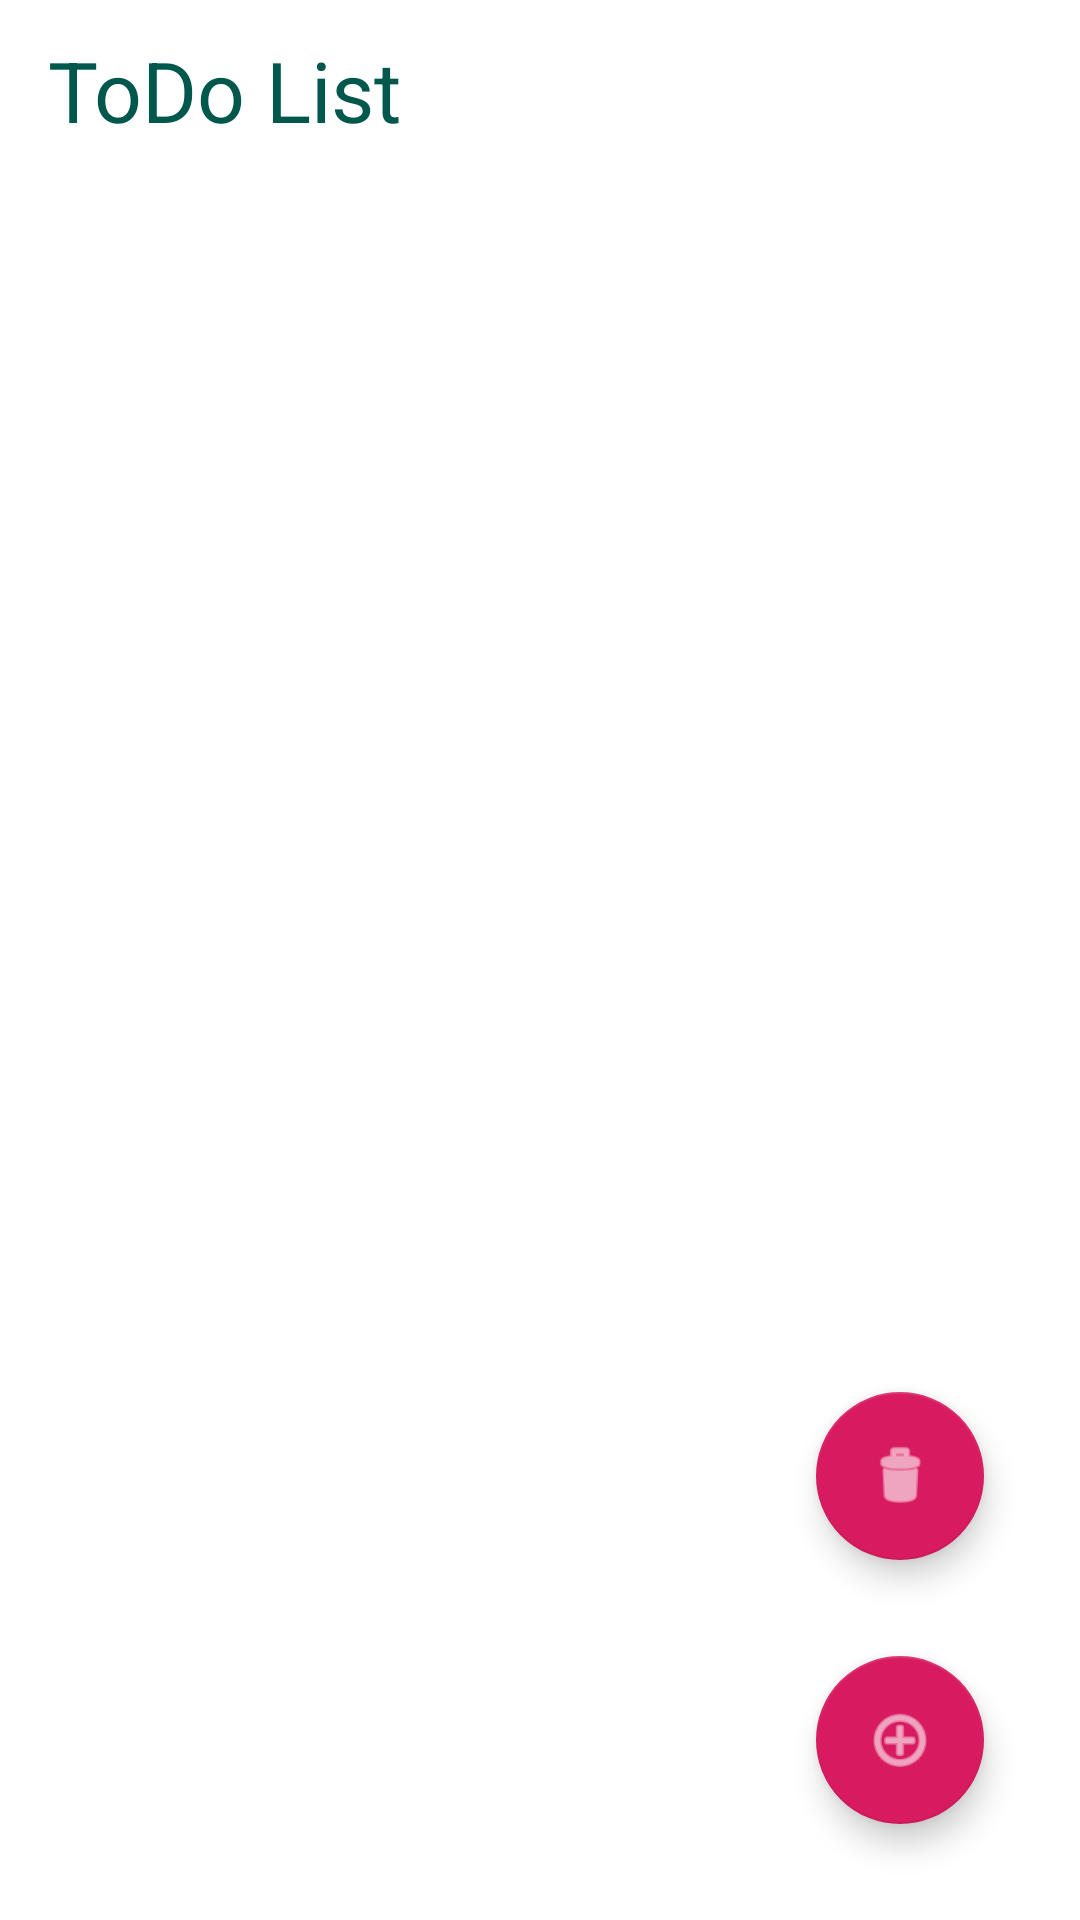

Where to tap for icons on this 1080*1920 app screen, as (x=x, y=y):
add: (x=900, y=1740)
delete: (x=900, y=1476)
